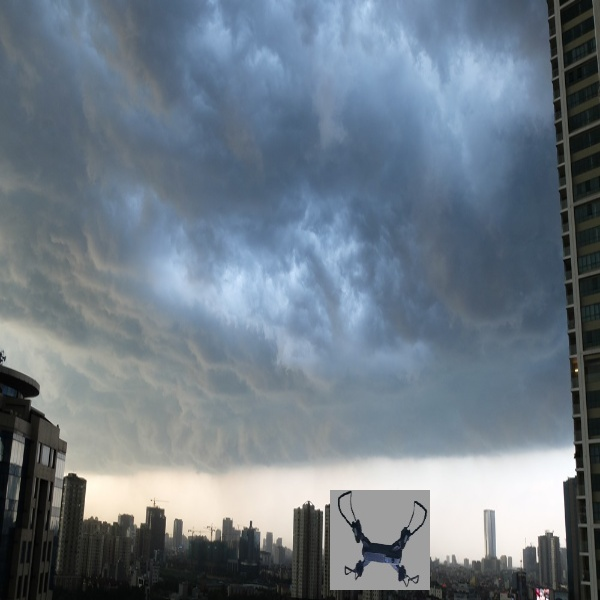drone: (333, 487, 429, 587)
